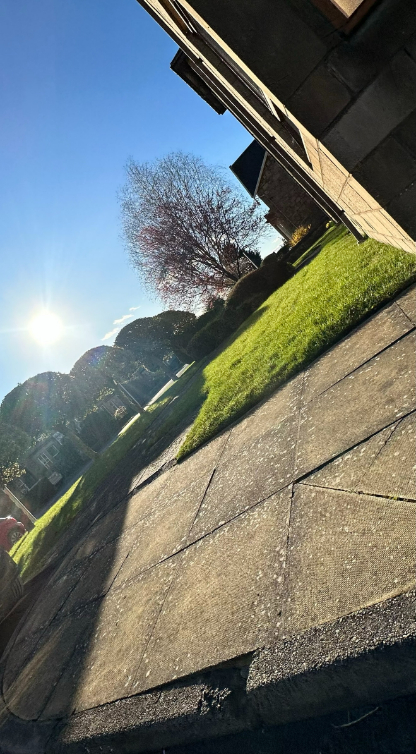tree: (103, 138, 265, 297), (9, 359, 107, 464), (75, 348, 164, 419), (114, 316, 197, 383)
